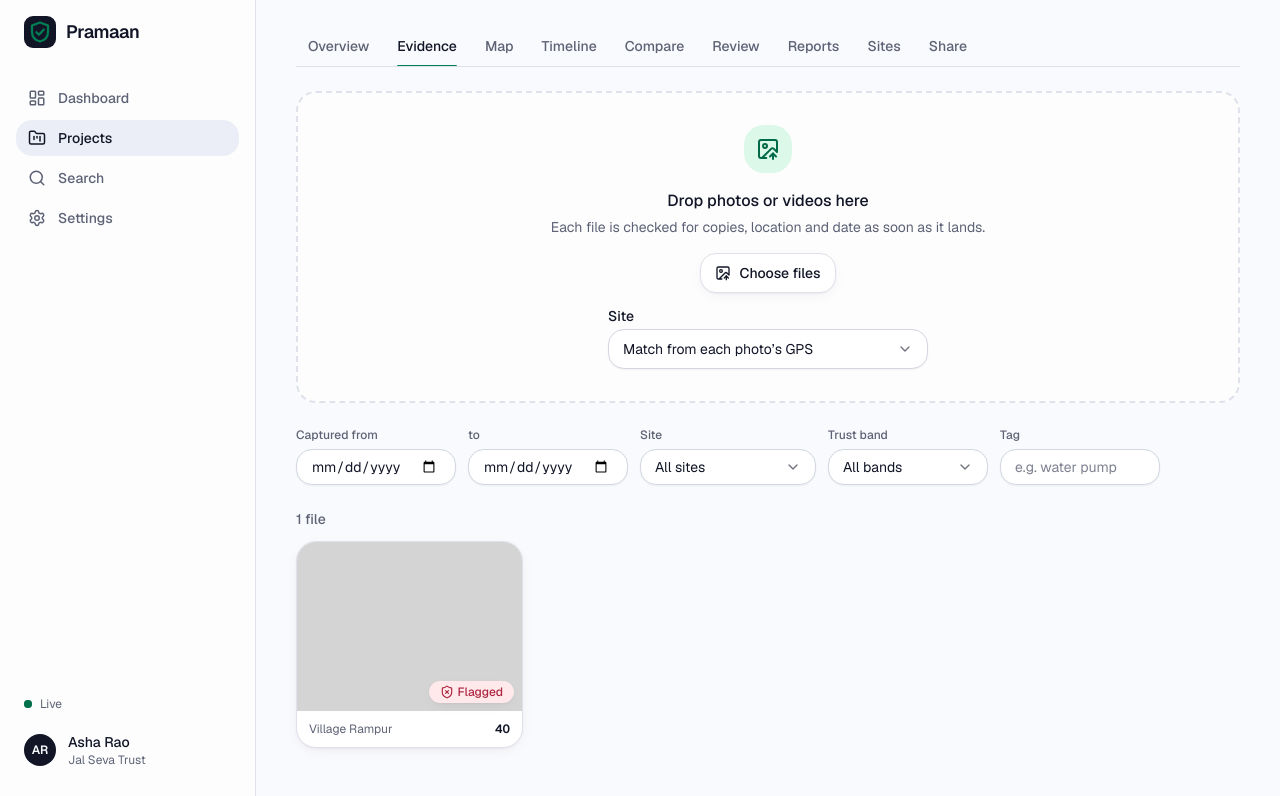
Test: evidence and the detail drawer › opens a card’s full Trust breakdown, metadata and provider in a drawer
The image size is (1280, 796).
(page scrolled)
Click the button with aria-label "A hand pump. Flagged, score 40".
click(410, 644)  # box [296,541,523,748]
(page scrolled)
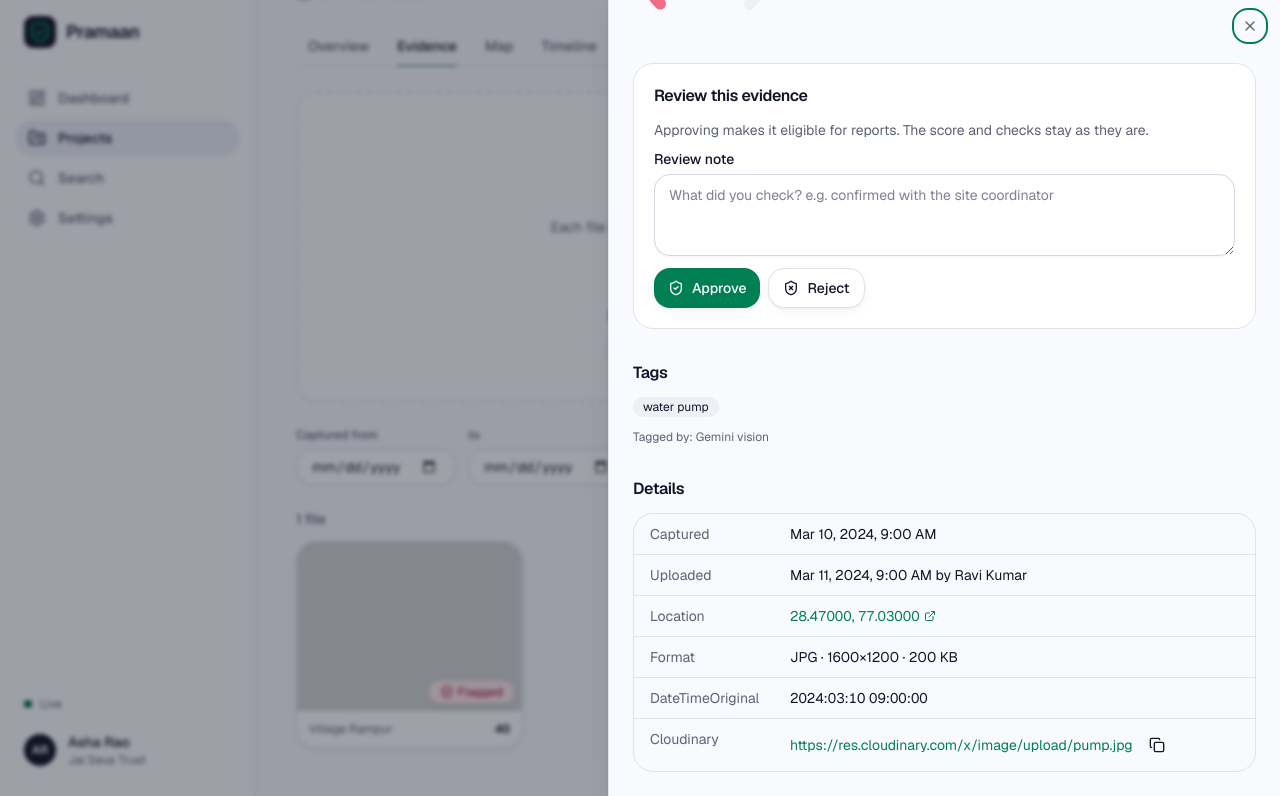
Check: the text "Tagged by: Gemini vision" is shown, box [633,429,769,445]
Check: the text "DateTimeOriginal" is shown, box [650,688,778,708]
